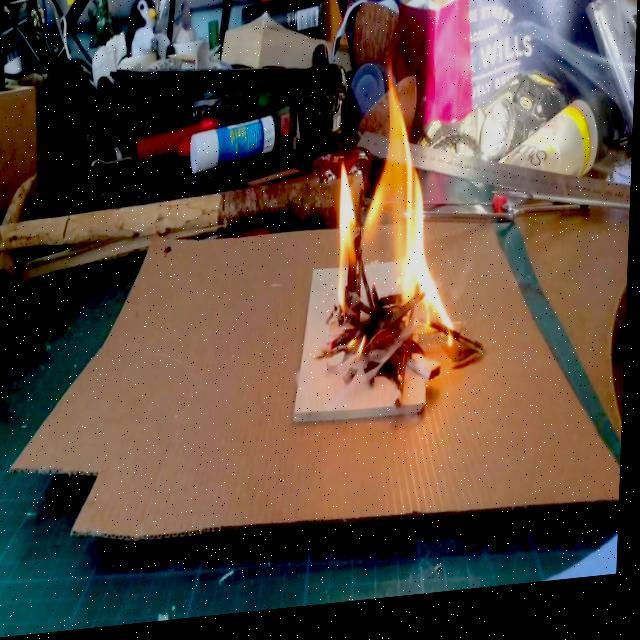Fire: (332, 86, 462, 408)
